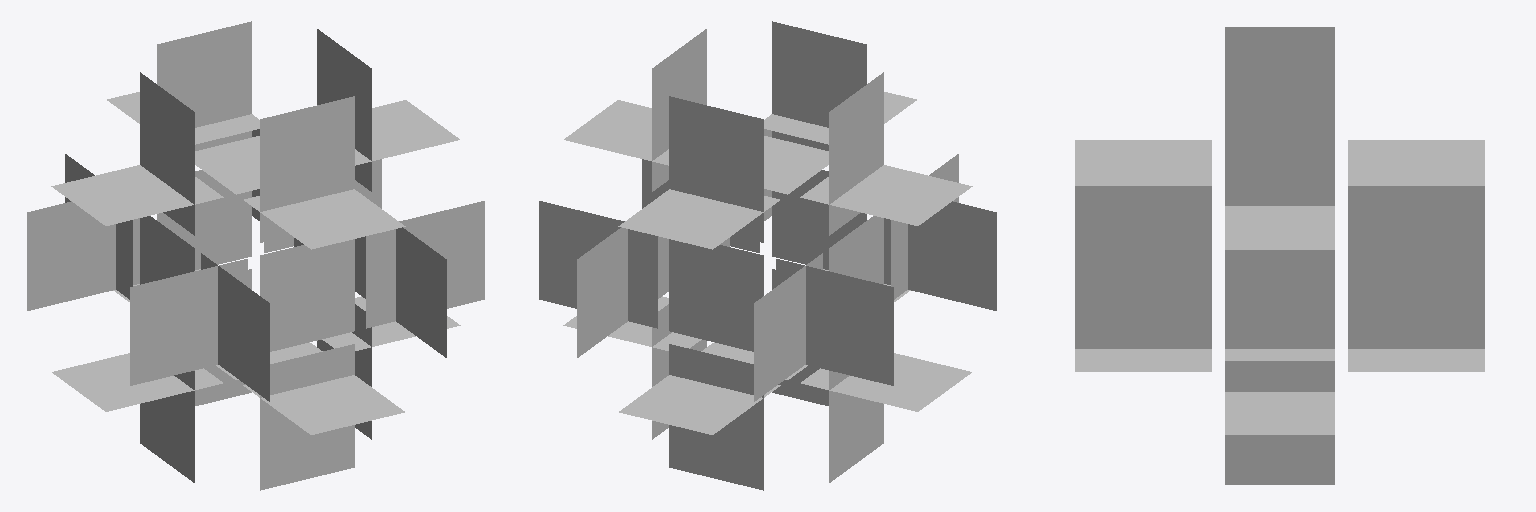
The model's file is pipe_glass.obj.
3 views of the same model, side by side, from view 1: azimuth 30°, elevation 25°; view 2: azimuth 150°, elevation 25°; view 3: azimuth 270°, elevation 25° (orthographic).
Parts seen in each view (by area): view 1: GSOUTH, GWEST, GDOWN, GCENTER, GNORTH, GEAST, GUP; view 2: GSOUTH, GWEST, GUP, GCENTER, GNORTH, GEAST, GDOWN; view 3: GDOWN, GUP, GSOUTH, GCENTER, GEAST, GNORTH.
Part boxes in pixels (x1,y1,x2,y2): GSOUTH: (140, 21, 371, 242); GWEST: (27, 165, 247, 411); GDOWN: (201, 189, 446, 434); GCENTER: (140, 136, 365, 379); GNORTH: (140, 269, 371, 490); GEAST: (264, 100, 484, 350); GUP: (65, 92, 303, 301); GSOUTH: (652, 21, 883, 242); GWEST: (776, 165, 996, 411); GUP: (577, 189, 822, 434); GCENTER: (658, 136, 883, 379); GNORTH: (652, 269, 883, 490); GEAST: (539, 100, 759, 350); GDOWN: (720, 92, 958, 301); GDOWN: (1075, 140, 1211, 371); GUP: (1348, 140, 1484, 371); GSOUTH: (1225, 27, 1334, 205); GCENTER: (1225, 250, 1334, 360); GEAST: (1225, 206, 1334, 434); GNORTH: (1225, 361, 1334, 484).
Size of the model in its own units: 1 by 1 by 1.